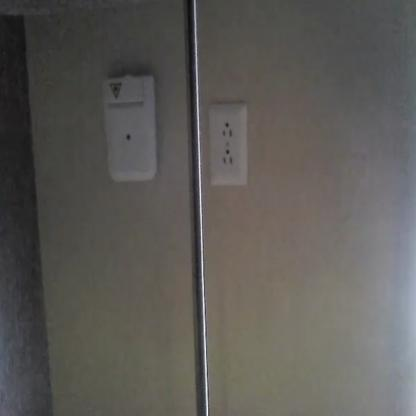OUTLET: (209, 102, 248, 186)
